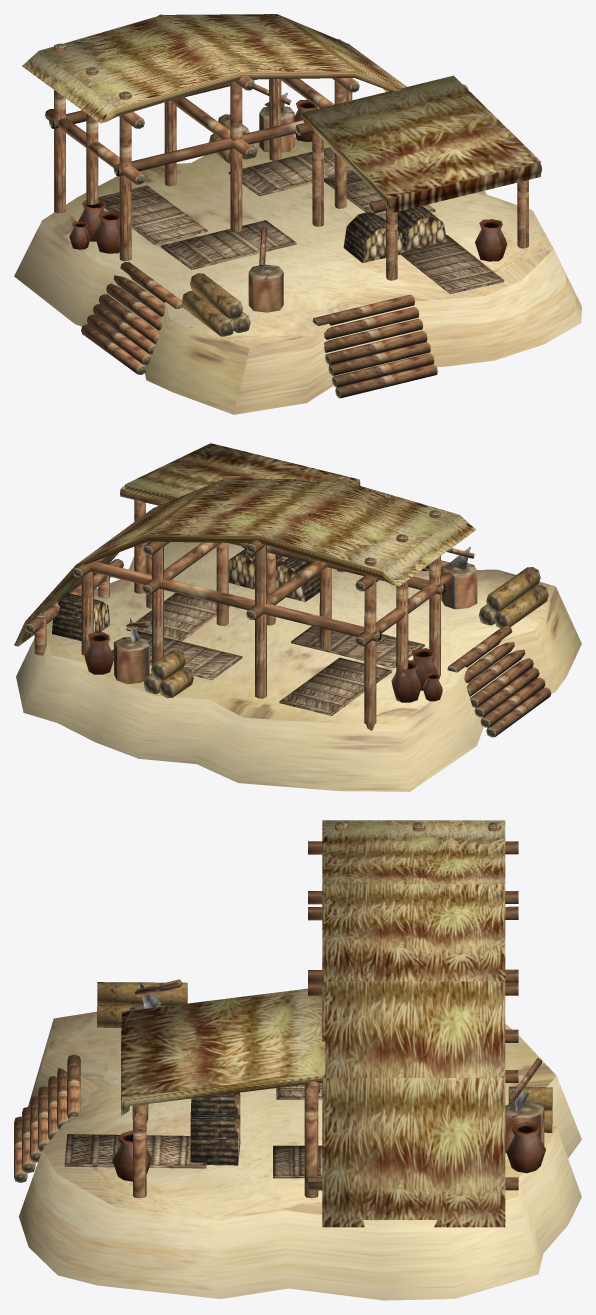
The model's file is storehouse.dae.
3 renders of one model, top to bottom at view 1: azimuth 30°, elevation 25°; view 2: azimuth 150°, elevation 25°; view 3: azimuth 270°, elevation 25°, orthographic. The views are drawn at different scales.
Visible parts, largest first — view 1: storehouse; view 2: storehouse; view 3: storehouse.
Boxes of the visible parts, x1,y1,x2,y2 form: storehouse: (14,14,581,414); storehouse: (14,443,581,791); storehouse: (14,820,581,1300).
Size of the model in its own units: 17.56 by 17.11 by 8.69.
